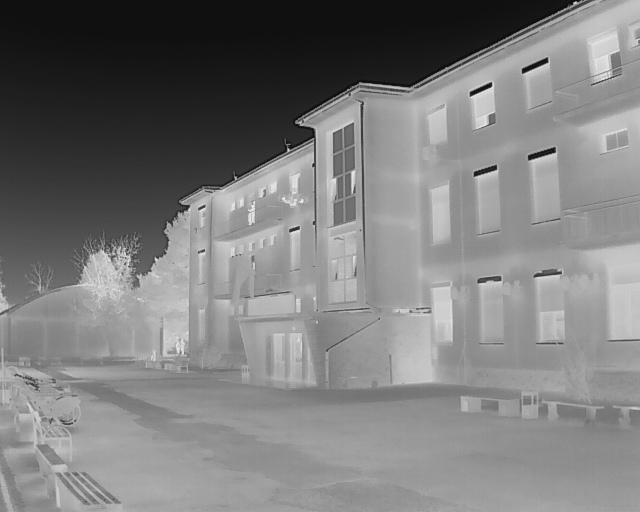drone: (276, 187, 312, 213)
